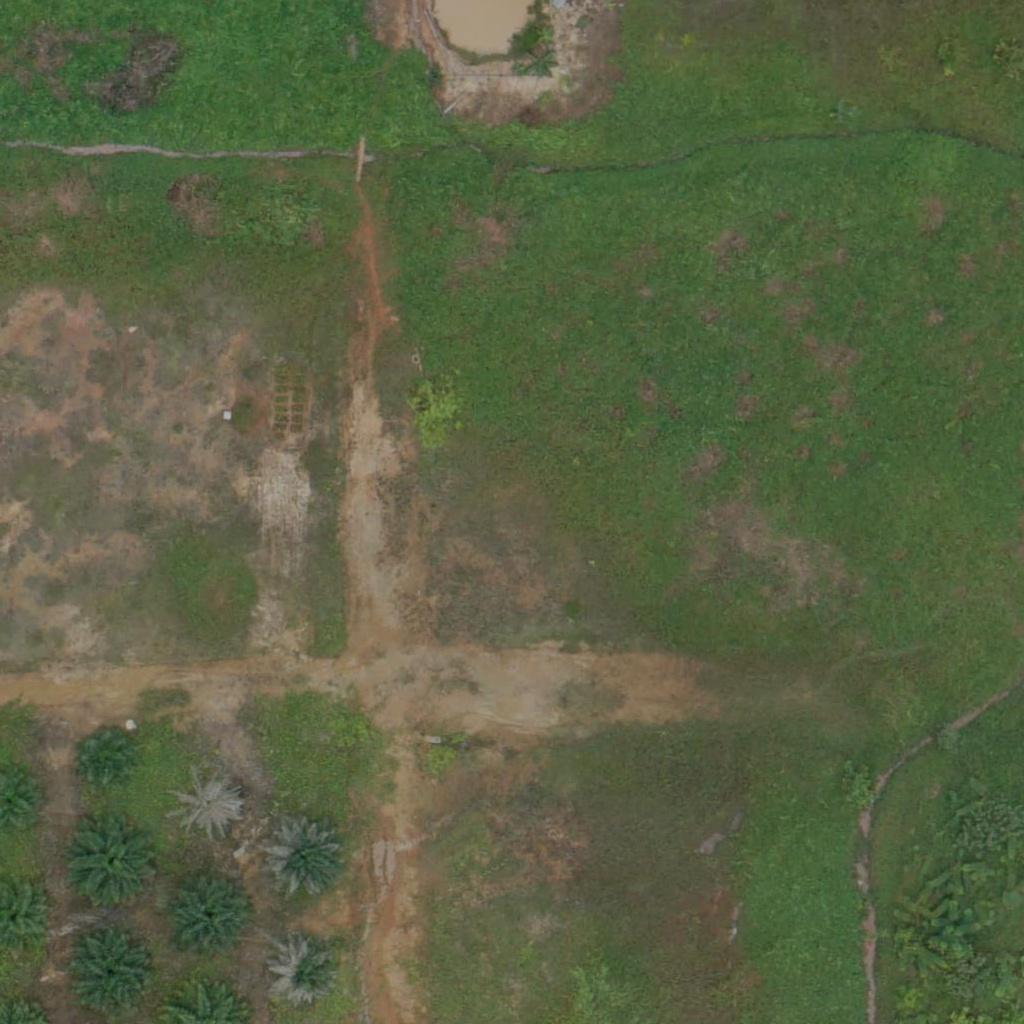Kelapa_Sawit: (63, 813, 163, 913), (162, 867, 262, 967), (258, 815, 346, 903), (68, 930, 155, 1018), (169, 766, 244, 842), (270, 936, 345, 1012), (73, 726, 135, 788)
